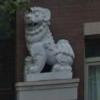Statue: (17, 5, 90, 83)
